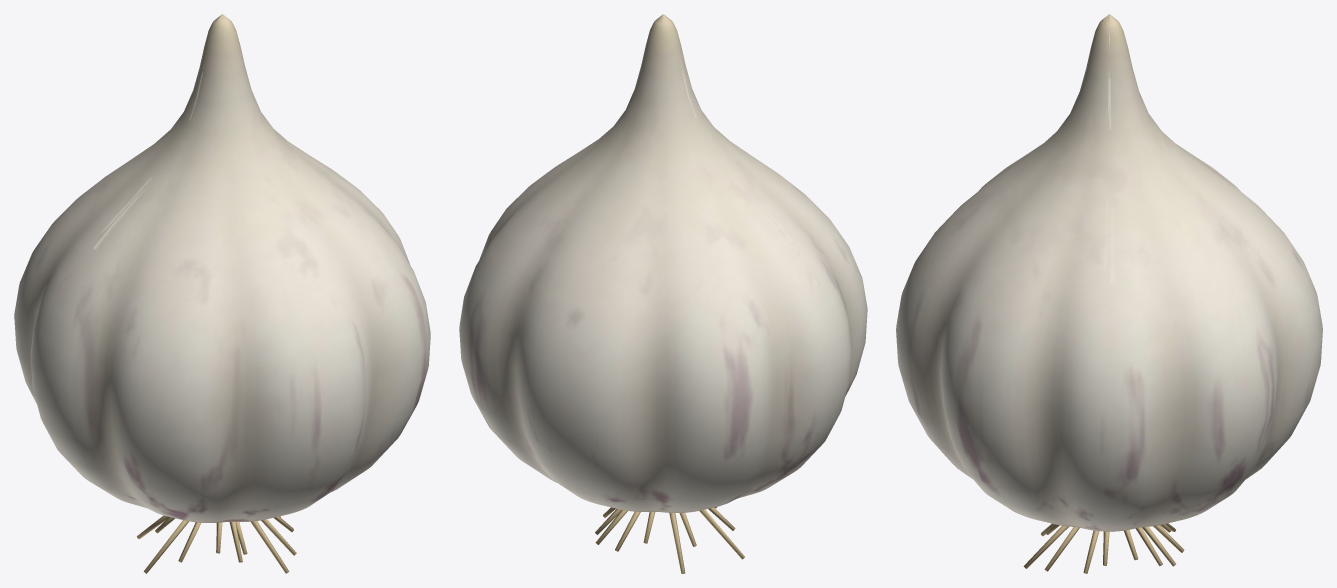
File: ail.glb
3 renders of one model, left to right at view 1: azimuth 30°, elevation 25°; view 2: azimuth 150°, elevation 25°; view 3: azimuth 270°, elevation 25°, orthographic. The views are drawn at different scales.
Parts seen in each view (by area): view 1: entier_peau, moitie_A_peau, moitie_B_peau, moitie_A_extra0, entier_extra0; view 2: entier_peau, moitie_B_peau, moitie_A_peau, entier_extra0, moitie_B_extra0; view 3: entier_peau, moitie_B_peau, moitie_A_peau, entier_extra0, moitie_A_extra0.
Part boxes in pixels (x1,y1,x2,y2): entier_peau: [14, 14, 429, 522]; moitie_A_peau: [54, 15, 430, 522]; moitie_B_peau: [14, 15, 324, 419]; moitie_A_extra0: [143, 516, 296, 573]; entier_extra0: [144, 517, 296, 573]; entier_peau: [460, 14, 867, 512]; moitie_B_peau: [459, 14, 828, 512]; moitie_A_peau: [562, 15, 867, 410]; entier_extra0: [595, 507, 744, 573]; moitie_B_extra0: [596, 507, 707, 573]; entier_peau: [896, 14, 1322, 531]; moitie_B_peau: [1109, 14, 1321, 531]; moitie_A_peau: [897, 14, 1109, 531]; entier_extra0: [1025, 523, 1183, 573]; moitie_A_extra0: [1023, 524, 1106, 573].
Size of the model in its own units: 0.058 by 0.082 by 0.0581.
3 materials, 2 textured.
